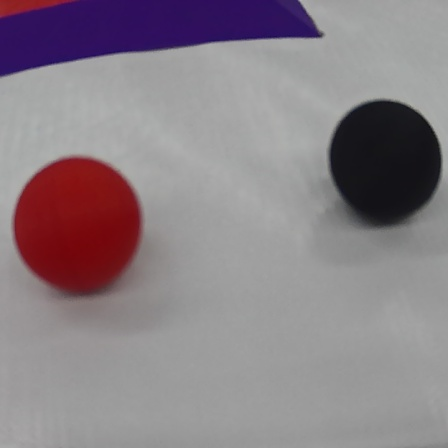black: (327, 95, 443, 229)
red: (13, 155, 154, 295)
red_aim: (0, 0, 350, 80)
